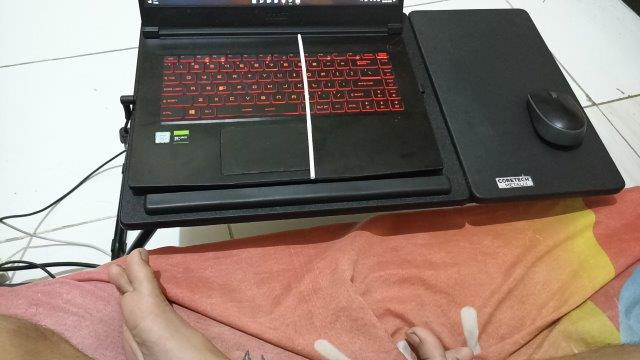sedotan: (297, 34, 316, 177)
